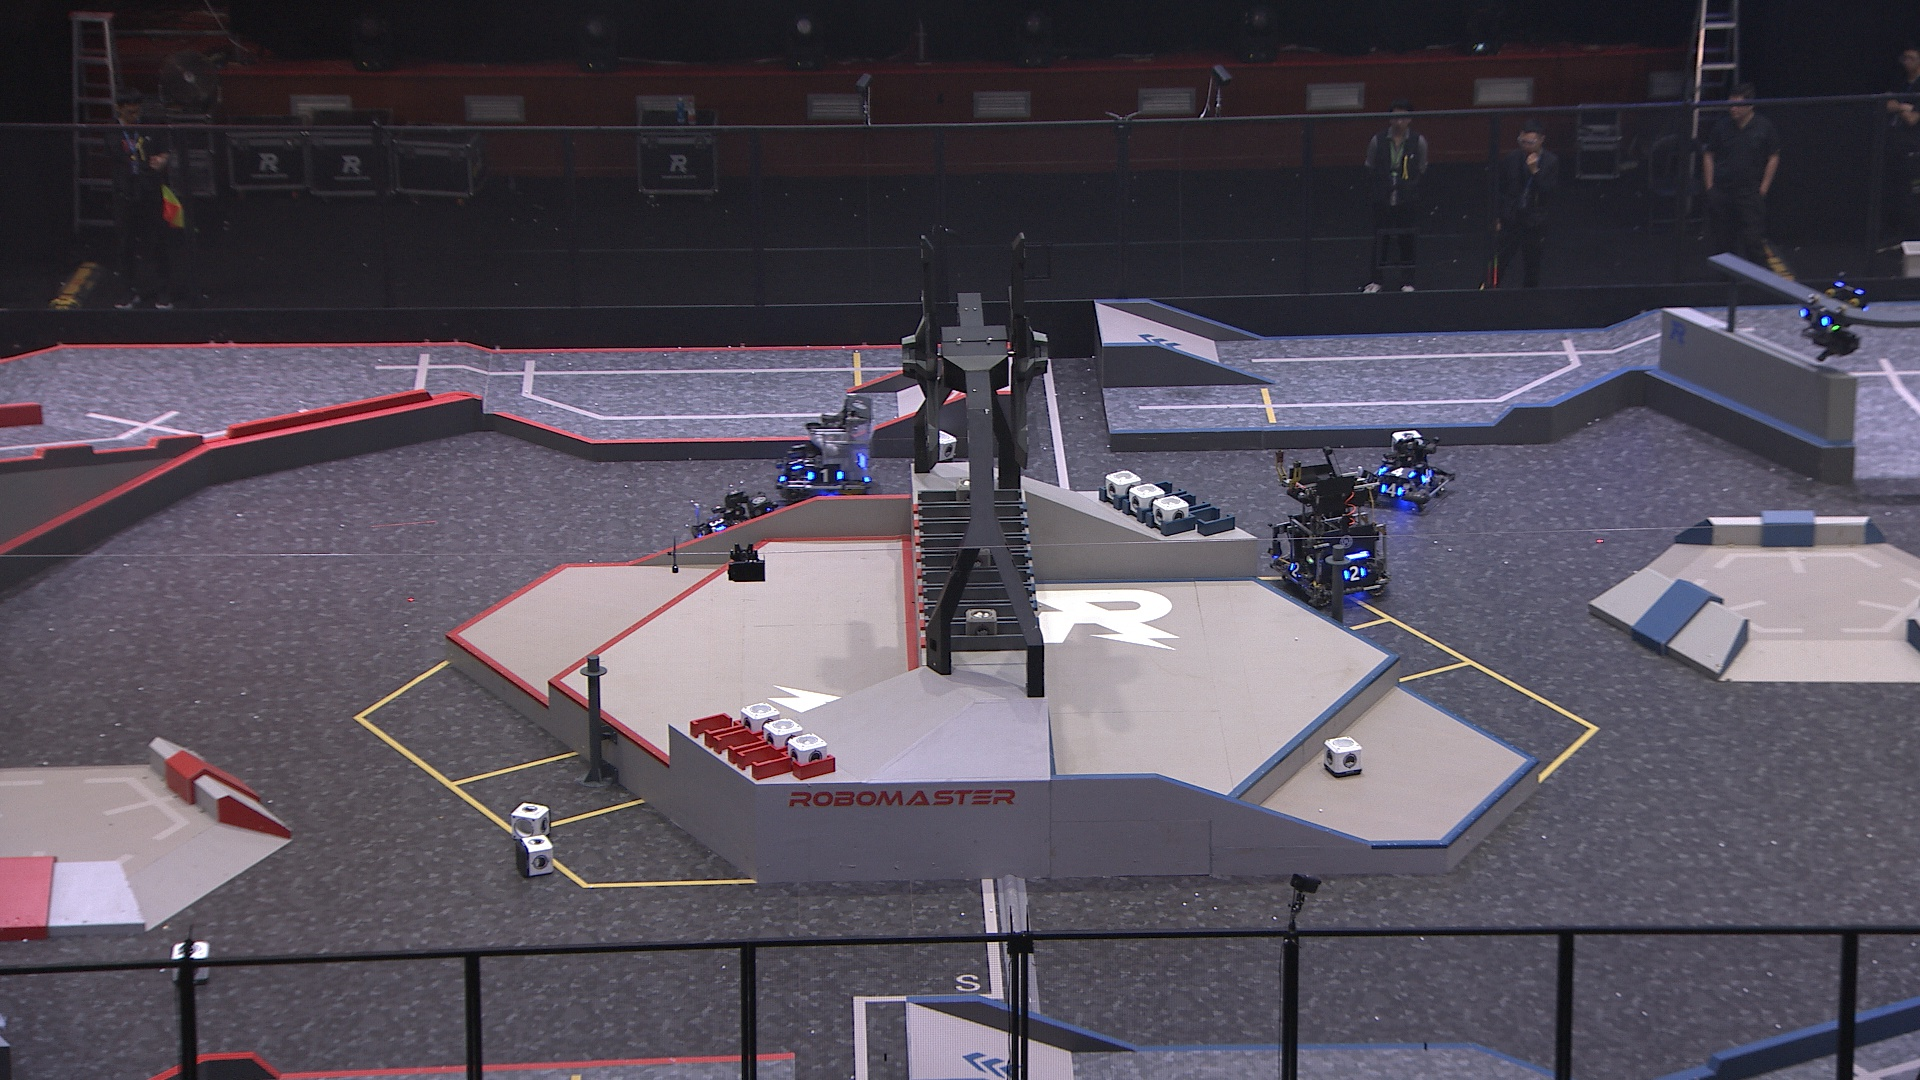armor: (807, 465, 845, 488), (1797, 305, 1833, 328), (1377, 462, 1415, 479), (1283, 556, 1304, 583), (1338, 564, 1367, 583), (1379, 480, 1404, 501), (1415, 465, 1439, 487), (704, 513, 727, 533), (787, 454, 804, 472)
car: (1269, 462, 1391, 605), (773, 394, 880, 502), (1357, 425, 1455, 509), (688, 488, 775, 555)
watcher: (1797, 272, 1869, 361)
